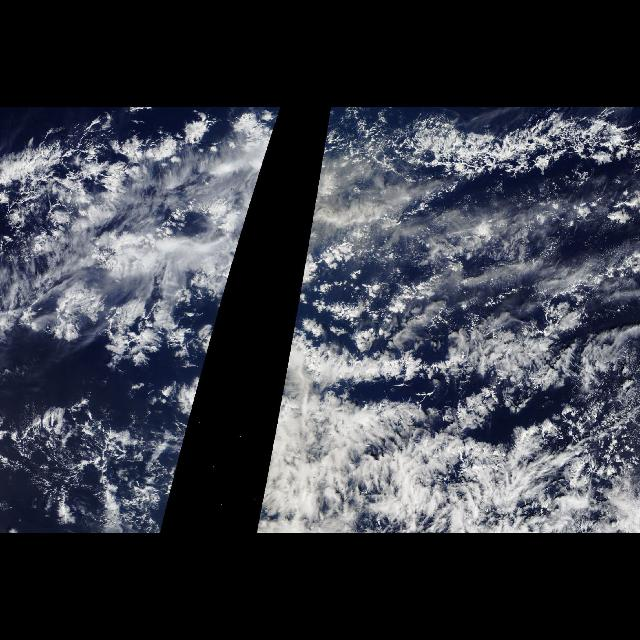Fish: (273, 314, 639, 534), (352, 109, 638, 197)
Flower: (5, 123, 266, 371)
Gravel: (21, 298, 181, 522), (2, 134, 152, 248)
